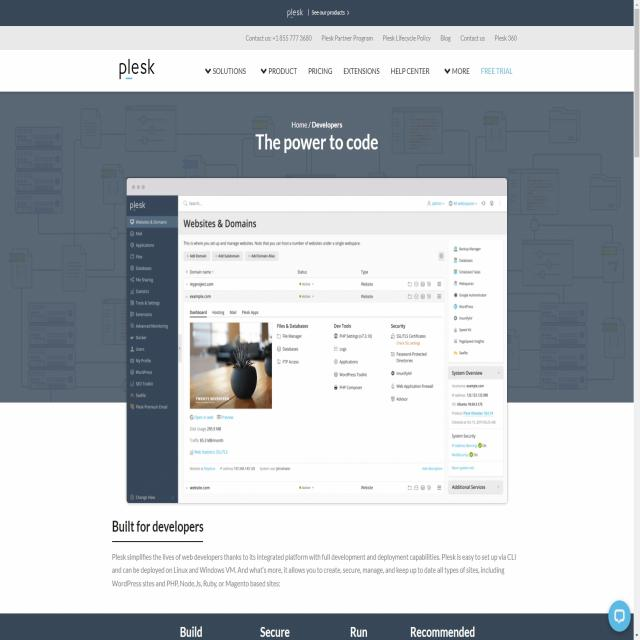menu-bar: (201, 57, 518, 84)
